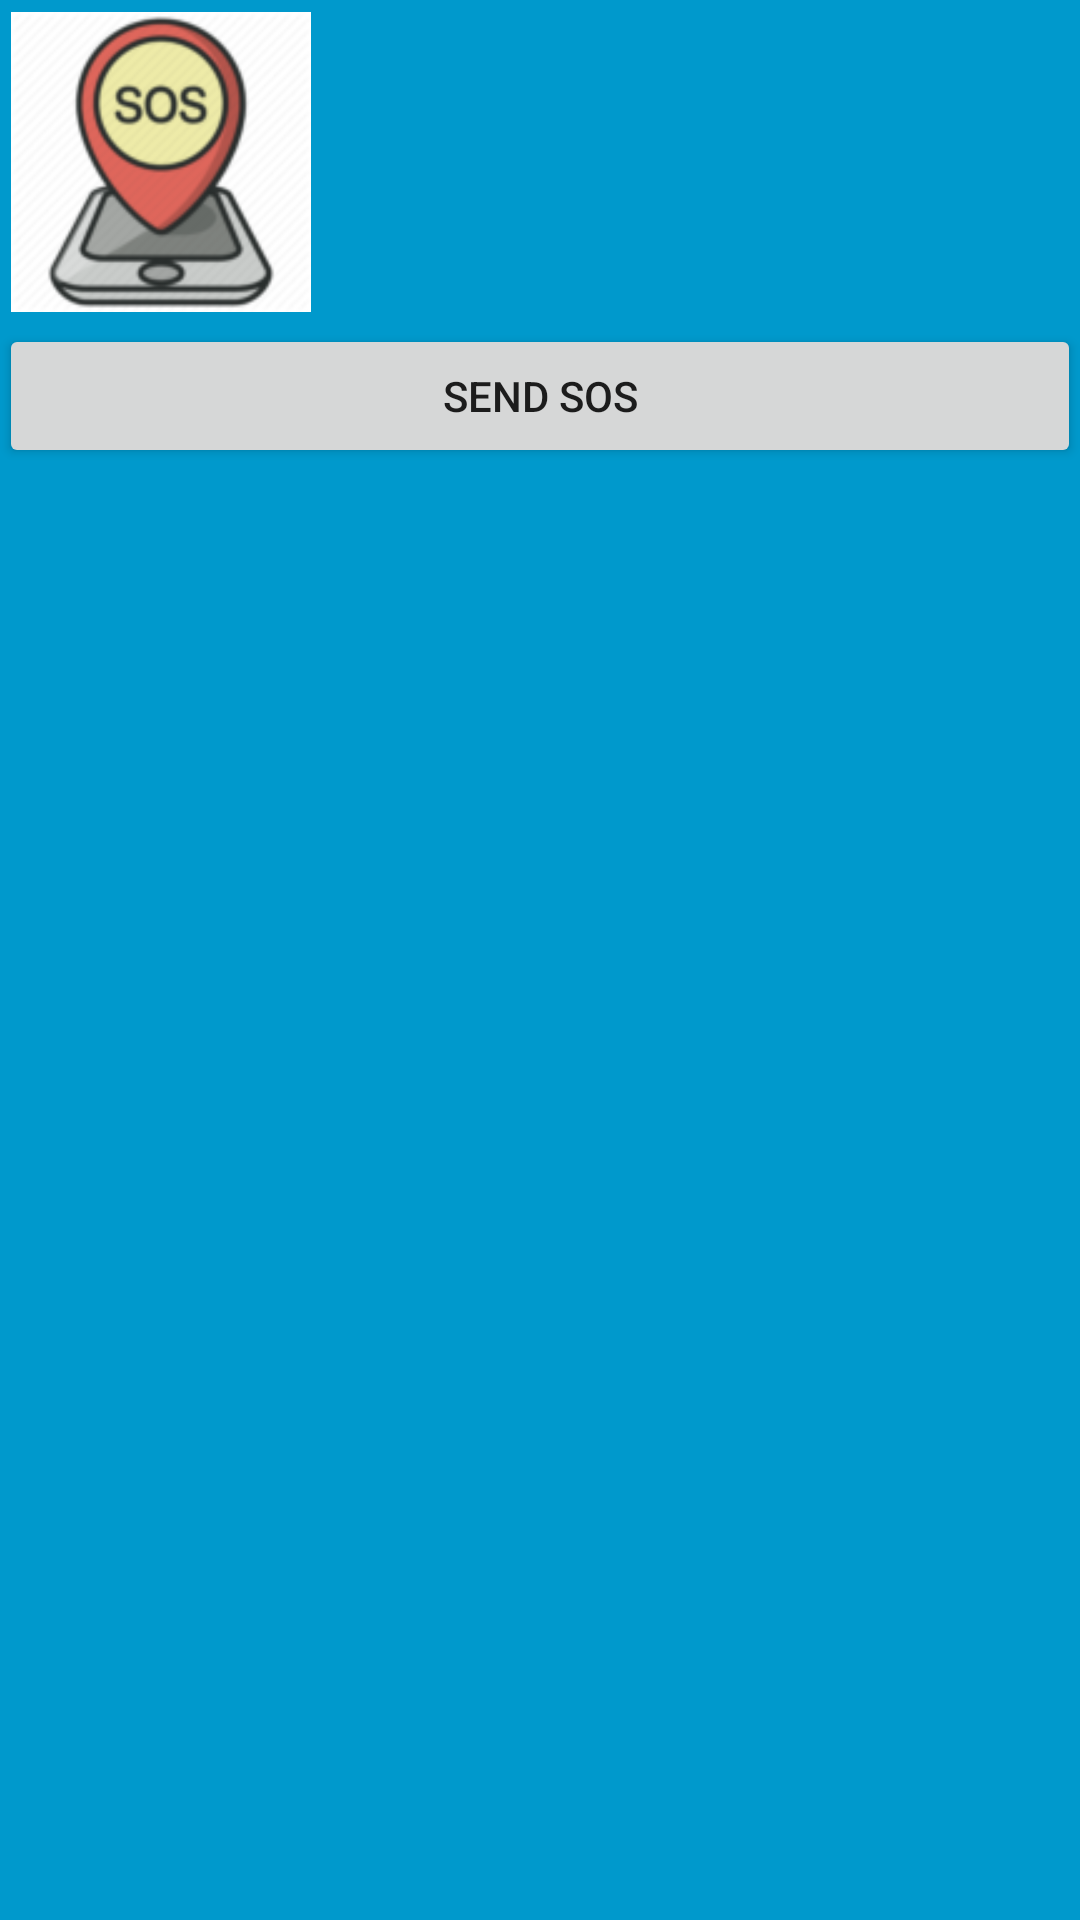

Icon bounding boxes for this 1080px x 1920px phone screenshot, format (x1, y1, x2, y2):
app: (11, 12, 311, 312)
